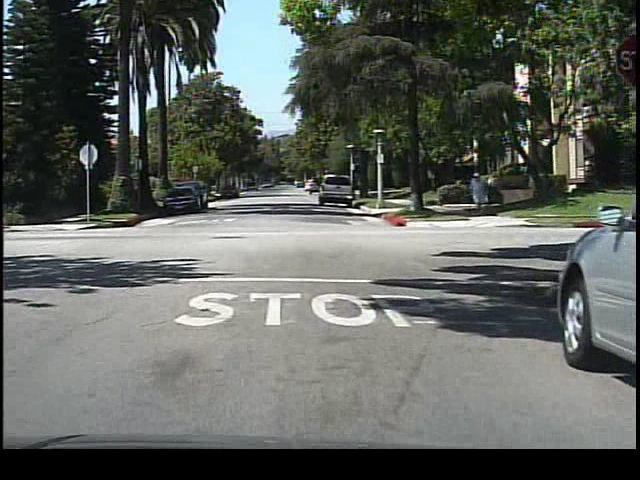person: (466, 168, 488, 216)
